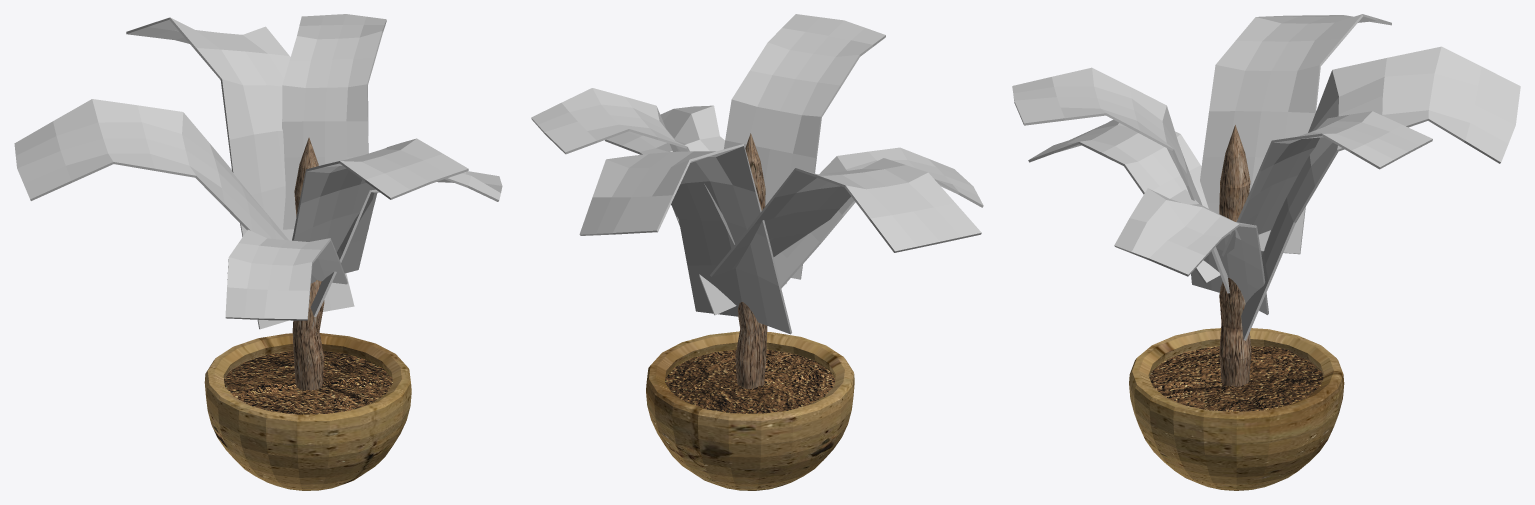
File: model_promps_housePlant.fbx
The picture shows the model from 3 angles, left to right: view 1: azimuth 30°, elevation 25°; view 2: azimuth 150°, elevation 25°; view 3: azimuth 270°, elevation 25°; orthographic projection. The views are drawn at different scales.
Parts seen in each view (by area): view 1: PlantLeaf, PlantDirtAndBranch; view 2: PlantLeaf, PlantDirtAndBranch; view 3: PlantLeaf, PlantDirtAndBranch.
Boxes of the visible parts, x1=… form: PlantLeaf: x1=14, y1=14, x2=502, y2=329; PlantDirtAndBranch: x1=204, y1=137, x2=411, y2=490; PlantLeaf: x1=531, y1=14, x2=983, y2=334; PlantDirtAndBranch: x1=646, y1=133, x2=854, y2=490; PlantLeaf: x1=1012, y1=14, x2=1520, y2=340; PlantDirtAndBranch: x1=1129, y1=125, x2=1344, y2=490.
Size of the model in its own units: 760 by 673 by 768.
